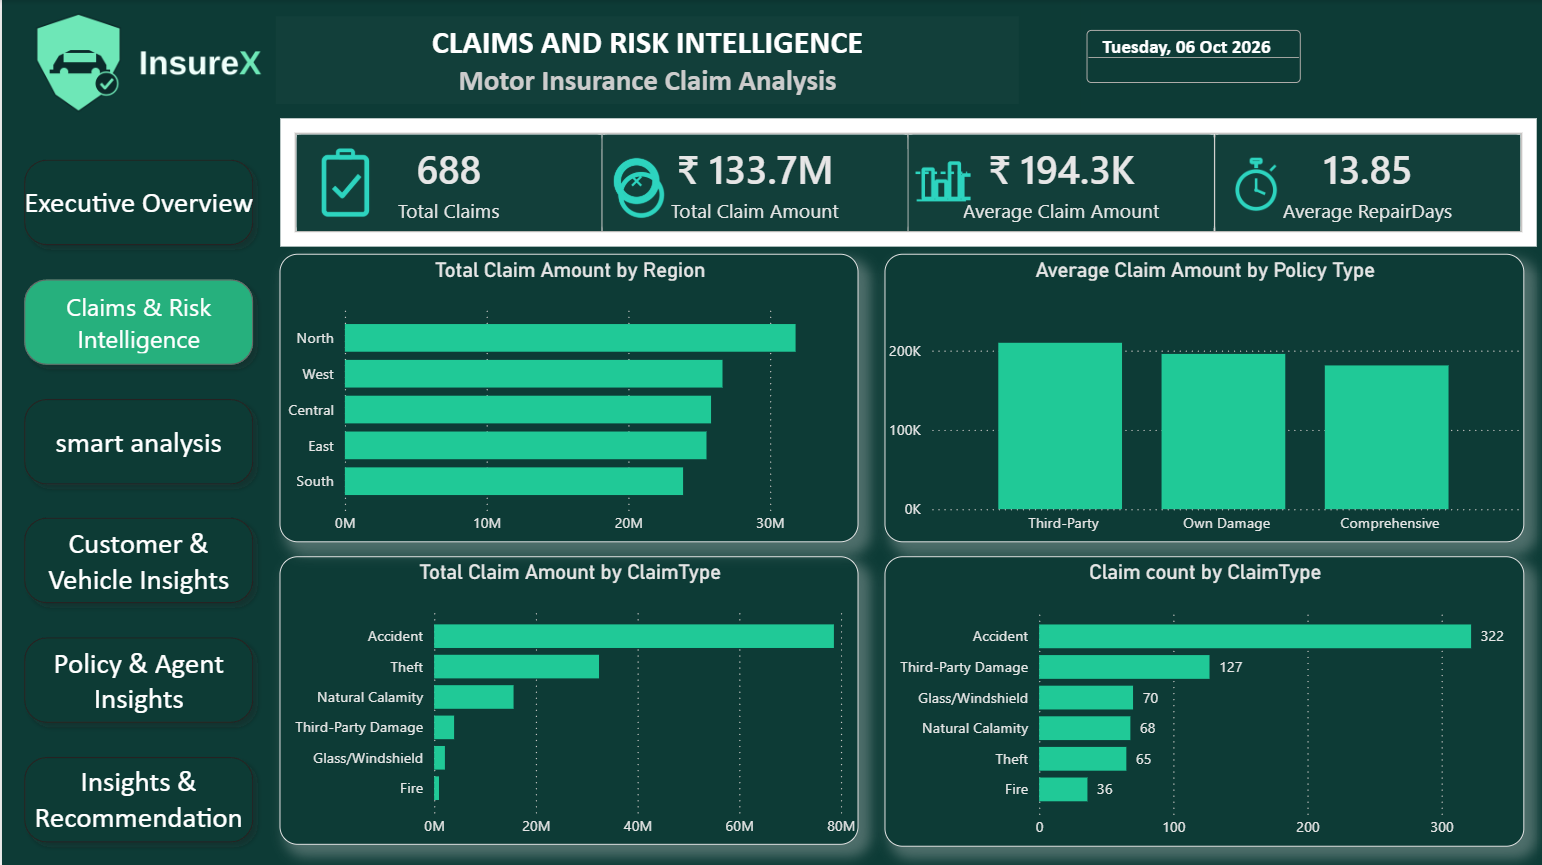

What the dashboard file says about the page in this screenshot:
{"tool":"powerbi","page":{"name":"Claims & Risk Intelligence","canvas":[1280,720],"ordinal":1},"visuals":[{"type":"cardVisual","fields":{"Data":["Claims.Total Claims","Claims.Total Claim Amount","Claims.Average Claim Amount","Claims.Average RepairDays"]},"box":[226.4,93.3,1053.9,116.6],"z":0},{"type":"clusteredBarChart","fields":{"Category":["Claims.ClaimType"],"Y":["Claims.Total Claim Amount"]},"box":[230.2,461.6,480.2,239.5],"z":1000},{"type":"clusteredBarChart","fields":{"Y":["Claims.Total Claim Amount"],"Category":["Customers.Region"]},"box":[230.2,210.5,480.2,239.5],"z":2000},{"type":"textbox","box":[226.7,13.4,616.4,72.6],"z":3000},{"type":"image","box":[9.6,0,354,100.2],"z":4000},{"type":"pageNavigator","box":[9.6,123.5,208.6,587.3],"z":5000},{"type":"cardVisual","fields":{"Rows":["Agents.Today's Date"]},"box":[894.7,0,188,94.7],"z":6000},{"type":"image","box":[241.5,119.4,86.4,65.9],"z":7000},{"type":"image","box":[488.5,122.1,75.5,63.1],"z":8000},{"type":"image","box":[753.3,119.4,49.4,56.3],"z":9000},{"type":"image","box":[1007.2,126.2,64.5,53.5],"z":10000},{"type":"clusteredColumnChart","title":"Average Claim Amount by Policy Type","fields":{"Category":["Policies.PolicyType"],"Y":["Avg(Claims.ClaimAmount)"]},"box":[731.4,210.5,530.2,239.5],"z":11000},{"type":"clusteredBarChart","title":" Claim count by ClaimType","fields":{"Category":["Claims.ClaimType"],"Y":["CountNonNull(Claims.ClaimID)"]},"box":[731.4,461.6,530.2,240.7],"z":12000}]}

Visuals, with their boxes in screenshot pixels (x1, y1, x2, y2), scaled from the page's 1280x720 canvas onto the 1542x865 screenshot:
cardVisual - Claims.Total Claims x Claims.Total Claim Amount: detection(273, 112, 1541, 252)
clusteredBarChart - Claims.ClaimType x Claims.Total Claim Amount: detection(277, 555, 856, 842)
clusteredBarChart - Claims.Total Claim Amount x Customers.Region: detection(277, 253, 856, 541)
textbox: detection(273, 16, 1016, 103)
image: detection(12, 0, 438, 120)
pageNavigator: detection(12, 148, 263, 854)
cardVisual - Agents.Today's Date: detection(1078, 0, 1304, 114)
image: detection(291, 143, 395, 223)
image: detection(588, 147, 679, 222)
image: detection(907, 143, 967, 211)
image: detection(1213, 152, 1291, 216)
"Average Claim Amount by Policy Type" clusteredColumnChart: detection(881, 253, 1520, 541)
" Claim count by ClaimType" clusteredBarChart: detection(881, 555, 1520, 844)
